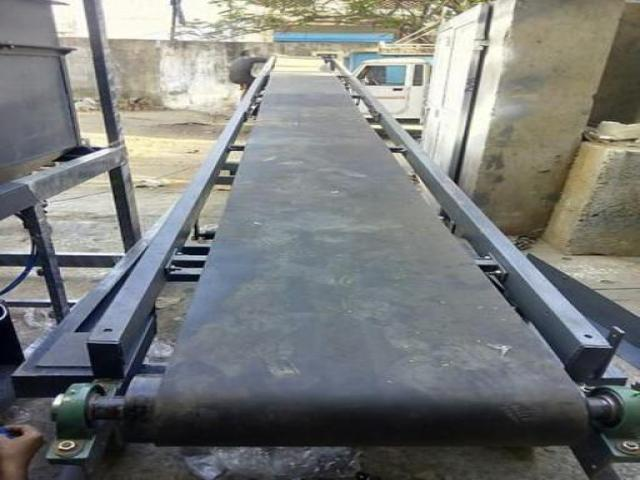conveyor: (11, 50, 639, 479)
